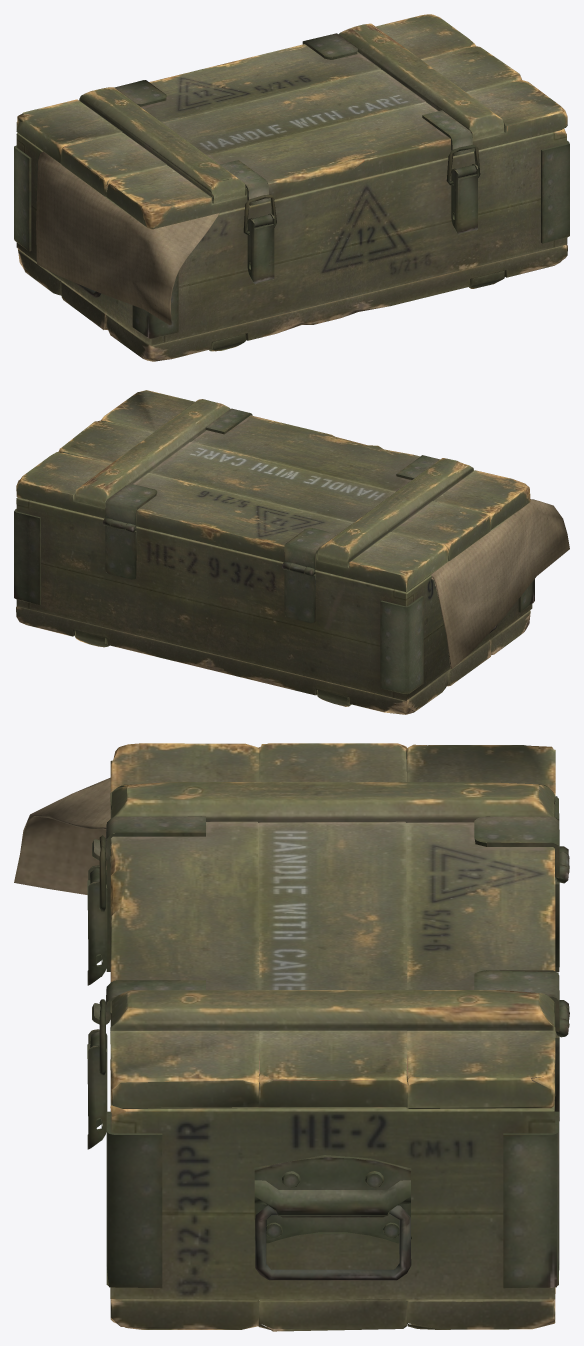
Rendered from military_crate.glb.
3 renders of one model, top to bottom at view 1: azimuth 30°, elevation 25°; view 2: azimuth 150°, elevation 25°; view 3: azimuth 270°, elevation 25°, orthographic. The views are drawn at different scales.
Parts seen in each view (by area): view 1: military_crate; view 2: military_crate; view 3: military_crate.
Part boxes in pixels (<box>): military_crate: <box>14,14,569,361</box>; military_crate: <box>14,390,569,714</box>; military_crate: <box>14,743,569,1331</box>.
Bounding box in the file's own units: 0.8156 × 0.3004 × 0.5381.
1 material, 1 textured.
